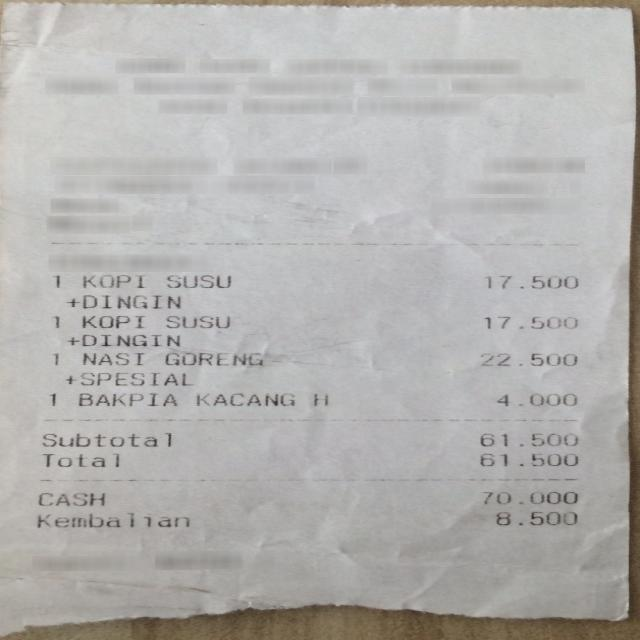text: (36, 513, 190, 527), (41, 432, 172, 446), (196, 392, 326, 405), (64, 371, 190, 384), (65, 294, 178, 308), (163, 352, 263, 366), (66, 334, 178, 346), (483, 315, 577, 329), (484, 274, 576, 288), (78, 392, 176, 405), (478, 432, 576, 445), (483, 491, 576, 504), (478, 453, 576, 465), (479, 353, 576, 365), (41, 452, 117, 467), (495, 392, 575, 405), (495, 512, 575, 524), (166, 274, 231, 288), (37, 492, 103, 505), (165, 315, 230, 328), (80, 315, 144, 328), (82, 274, 144, 287), (81, 352, 142, 364), (49, 273, 63, 288), (50, 314, 61, 328), (48, 352, 59, 366), (47, 392, 58, 405)
